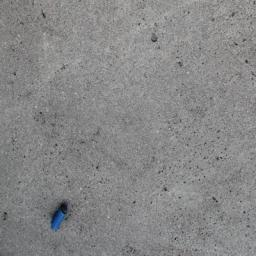FOD: (42, 203, 78, 237)
